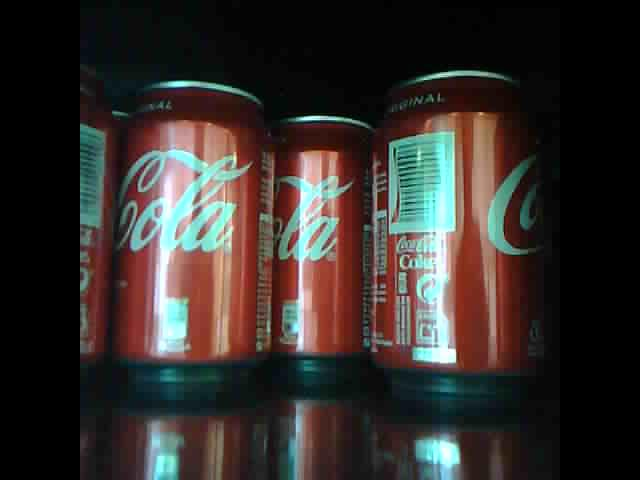coca cola: (372, 69, 545, 382), (113, 77, 272, 381), (274, 112, 371, 366), (80, 78, 114, 371)
